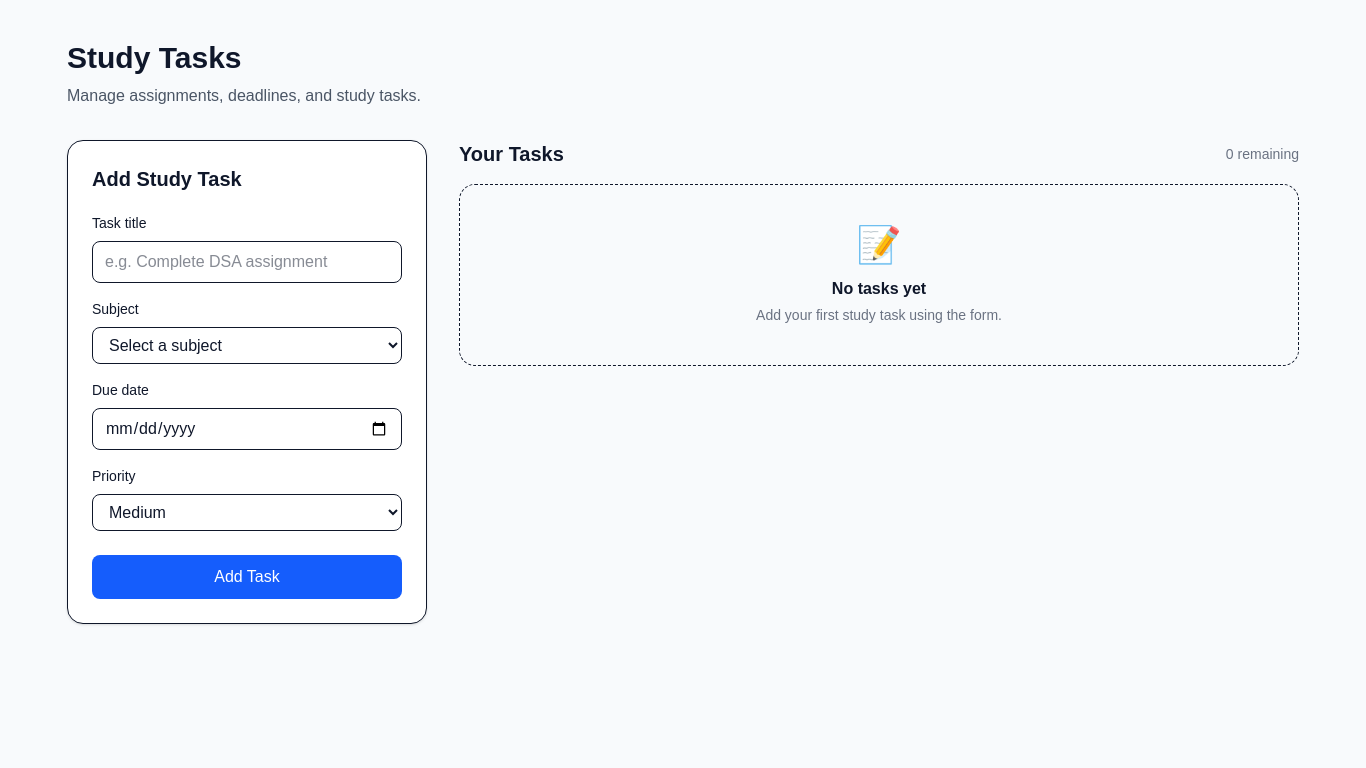
Tasks › shows validation errors when submitting an empty form
Click the button "Add Task" at (247, 577), box 92,555 -> 402,599
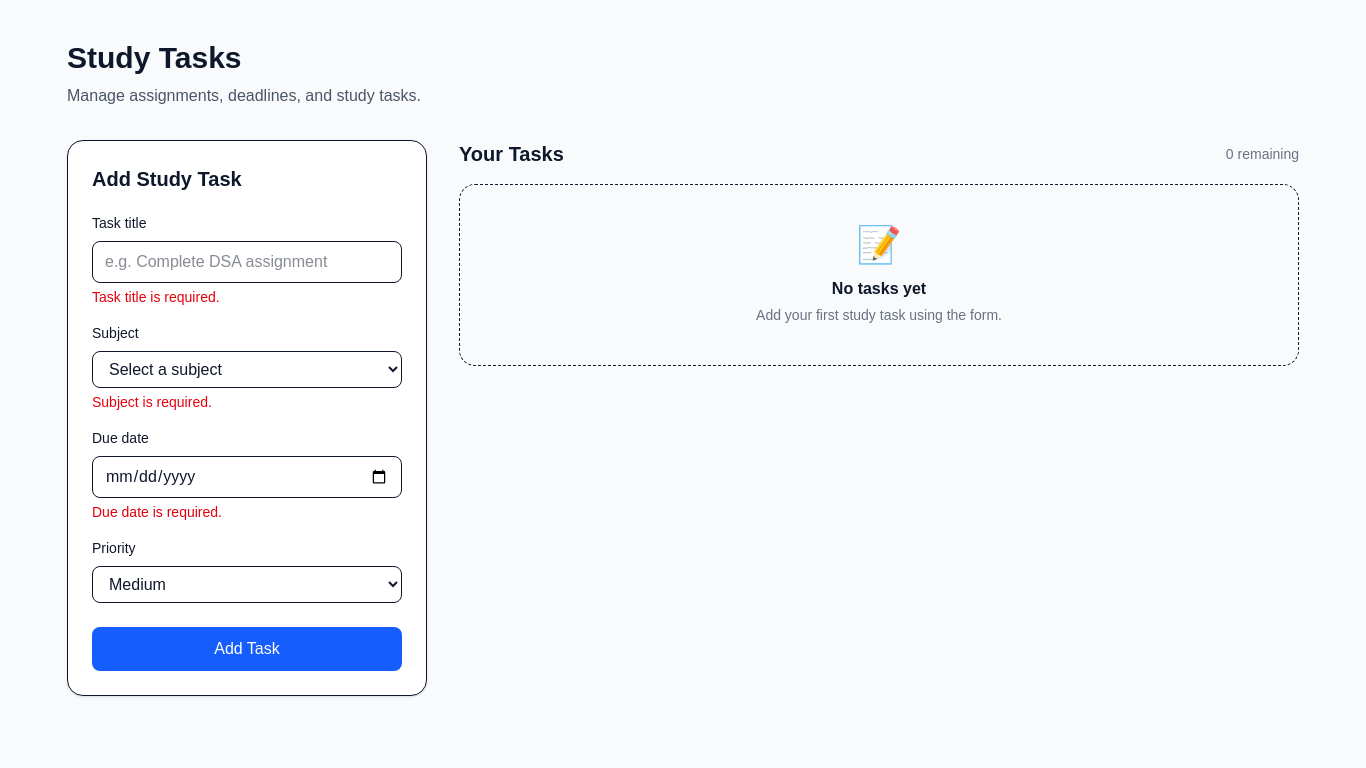
Check: the text "Task title is required." is shown, box 92,289 -> 220,305
Check: the text "Subject is required." is shown, box 92,394 -> 212,410
Check: the text "Due date is required." is shown, box 92,504 -> 222,520
